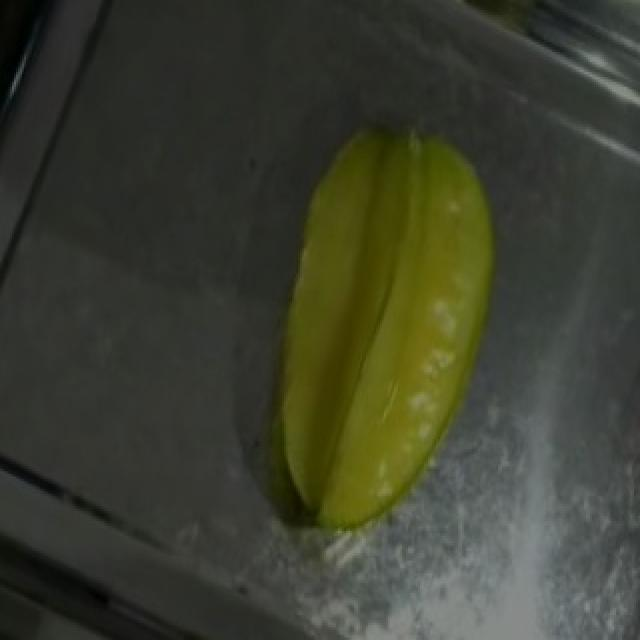fruit: (286, 84, 592, 531)
